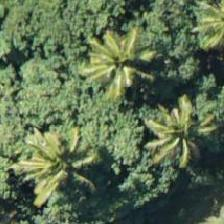coconut_tree: (94, 29, 184, 119), (3, 88, 93, 178), (40, 156, 130, 223)
